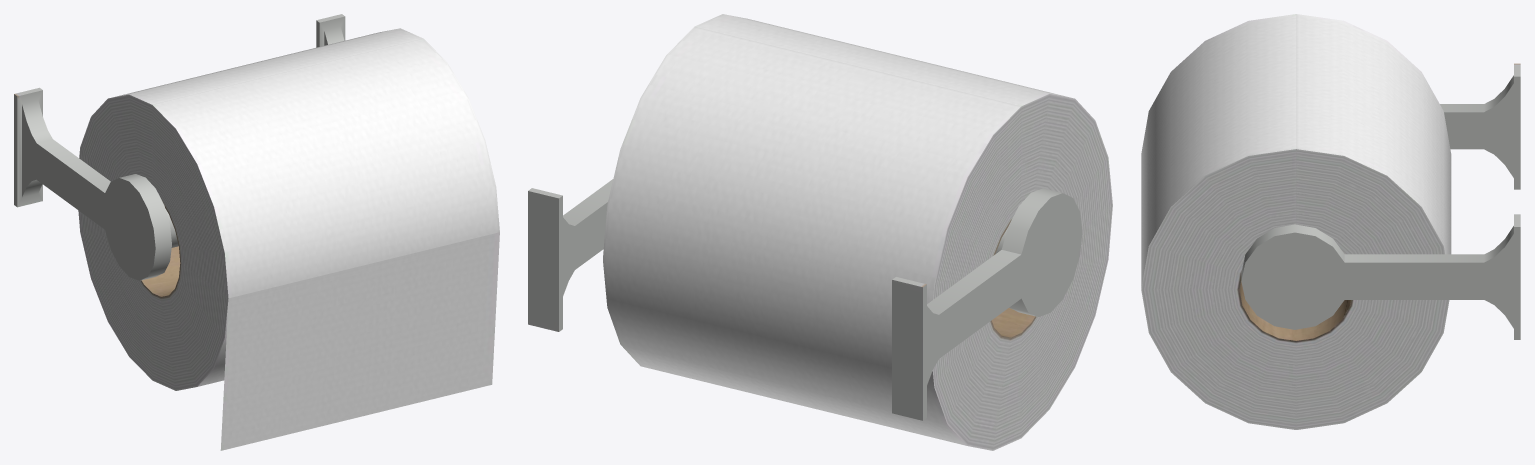
Rendered from SM_Toilet_Roll_Holder_01.glb.
The picture shows the model from 3 angles, left to right: view 1: azimuth 30°, elevation 25°; view 2: azimuth 150°, elevation 25°; view 3: azimuth 270°, elevation 25°; orthographic projection. The views are drawn at different scales.
Parts seen in each view (by area): view 1: SM_Toilet_Roll_Holder_01; view 2: SM_Toilet_Roll_Holder_01; view 3: SM_Toilet_Roll_Holder_01.
Part boxes in pixels (bbox=[...]): SM_Toilet_Roll_Holder_01: bbox=[14, 14, 499, 450]; SM_Toilet_Roll_Holder_01: bbox=[528, 14, 1112, 450]; SM_Toilet_Roll_Holder_01: bbox=[1141, 14, 1520, 429].
Size of the model in its own units: 0.1954 by 0.1686 by 0.1921.
Materials: 1 (1 with a texture image).
